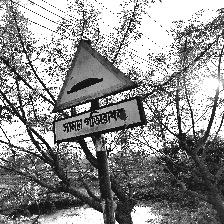Speed-breaker: (52, 40, 146, 146)
